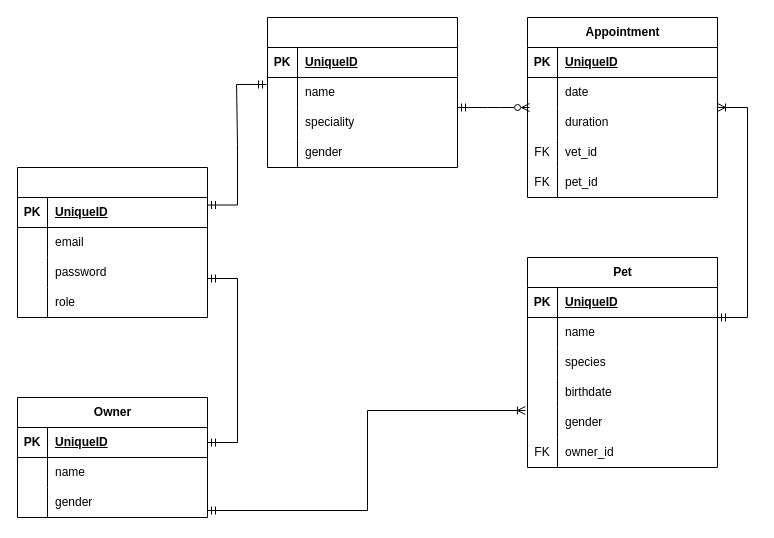
The diagram is 774 pixels wide and 538 high, and some of its shapes have lost their labels. The box of each missing label's shape, as (x1, y1, x2, y2) in pixels:
User: (16, 166, 208, 318)
Vet: (266, 16, 458, 168)
